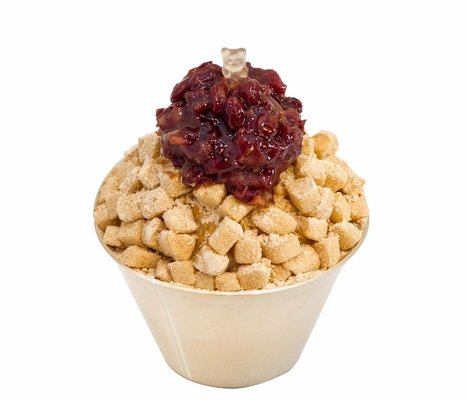sushi: (90, 58, 372, 388)
